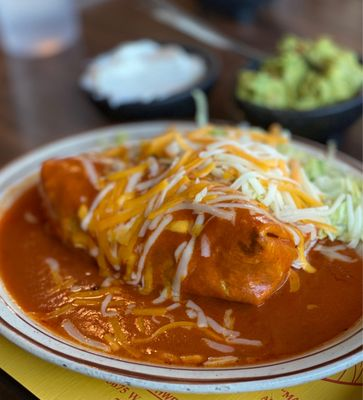sushi: (233, 32, 363, 141)
